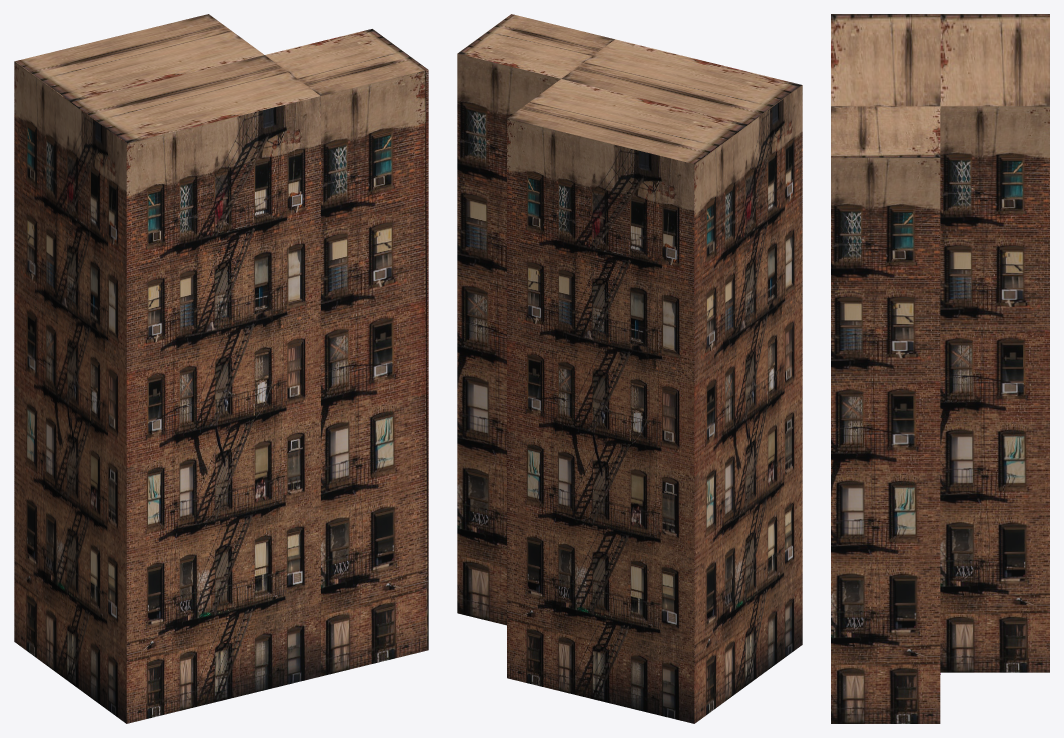
Rendered from House 1.fbx.
3 renders of one model, left to right at view 1: azimuth 30°, elevation 25°; view 2: azimuth 150°, elevation 25°; view 3: azimuth 270°, elevation 25°, orthographic. The views are drawn at different scales.
Parts seen in each view (by area): view 1: b3; view 2: b3; view 3: b3.
Boxes of the visible parts, bbox=[...] form: b3: bbox=[14, 14, 428, 723]; b3: bbox=[457, 14, 802, 723]; b3: bbox=[831, 14, 1049, 723].
Bounding box in the file's own units: 67 × 123 × 43.1.
1 material, 1 textured.
